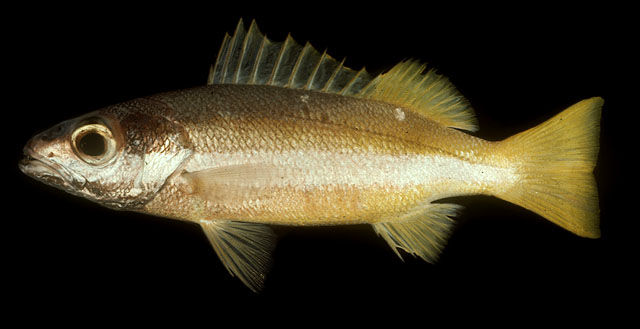fish: (17, 18, 606, 294)
